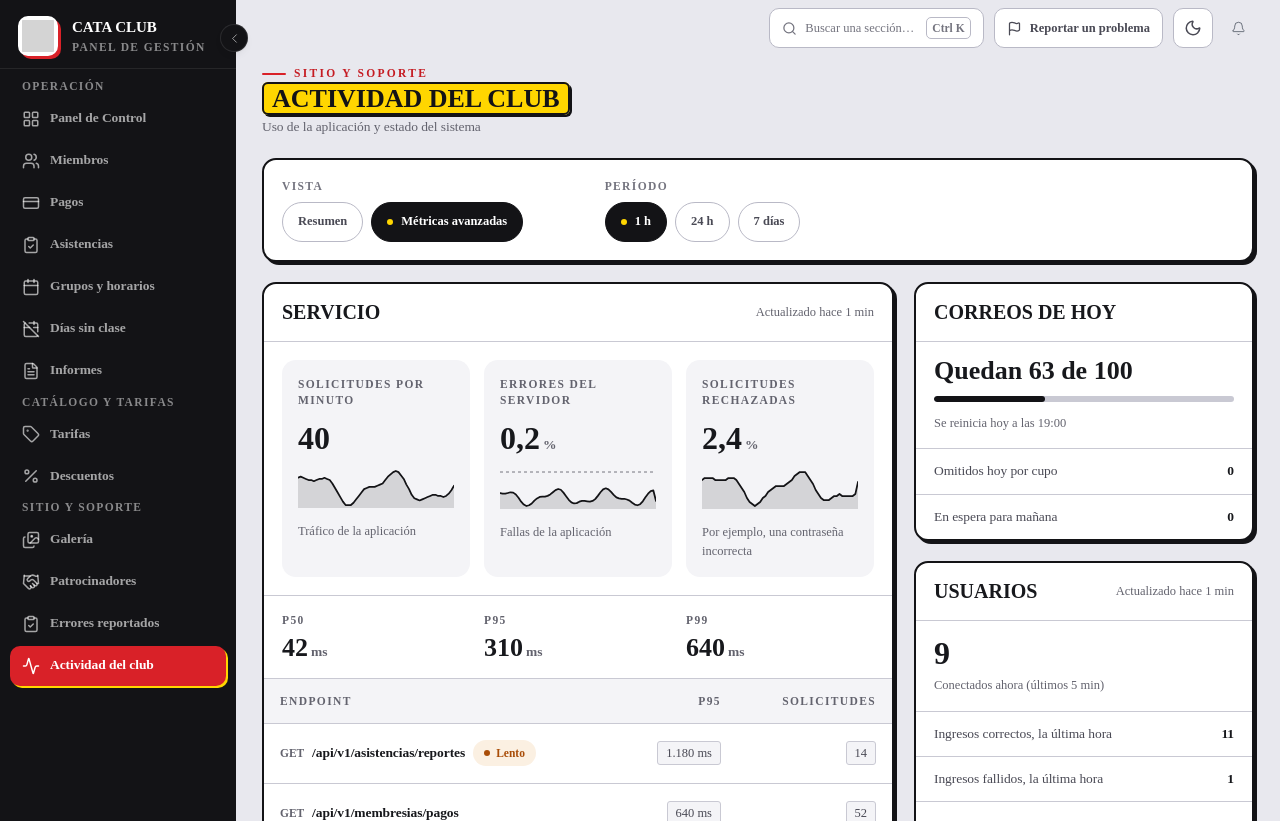
Scenario: ActividadPage — Métricas avanzadas polling › stops polling when the reader leaves the advanced view
This screenshot has width=1280, height=821.
Step 1. Click the button "Resumen" → (323, 222), box left=282, top=202, right=363, bottom=242
Wait 120000 ms
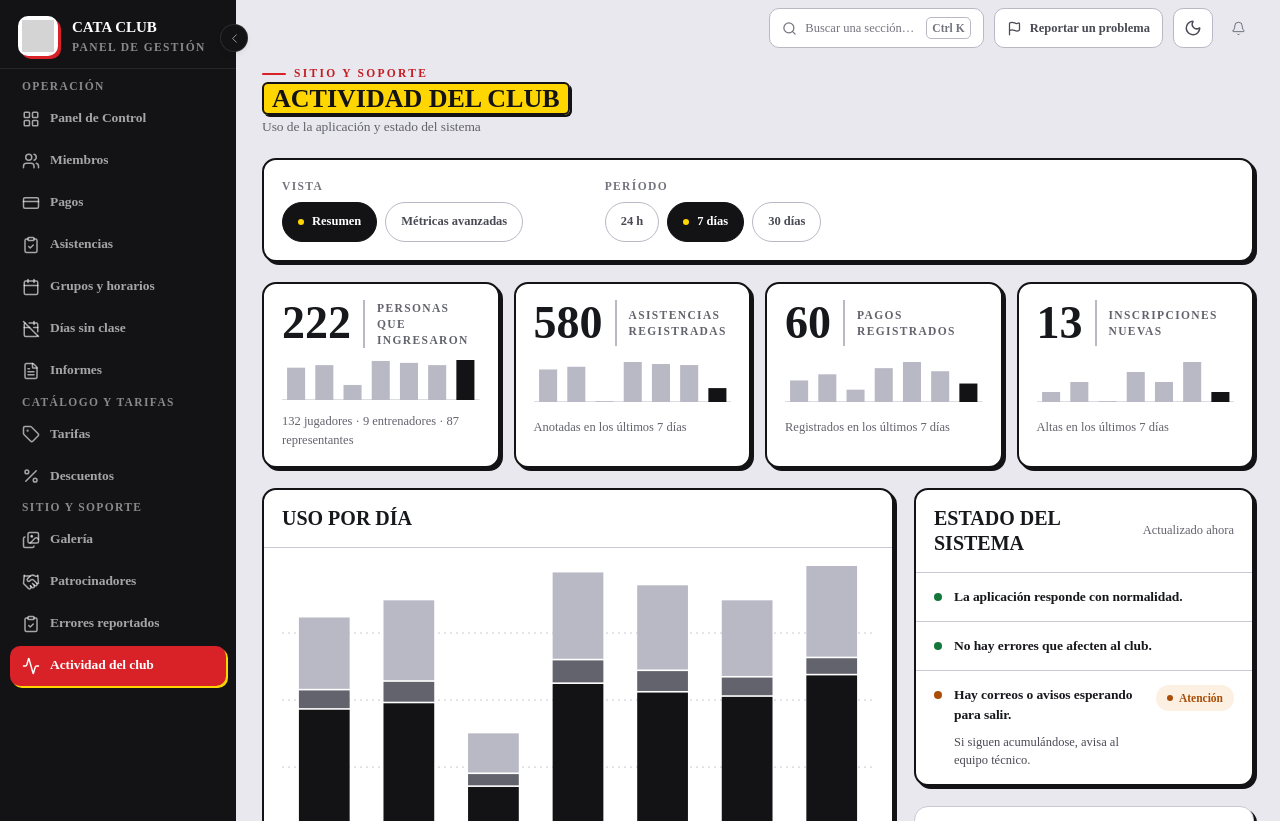
Expected: the element with test id "activity-kpis" is shown, left=262, top=282, right=1254, bottom=468
